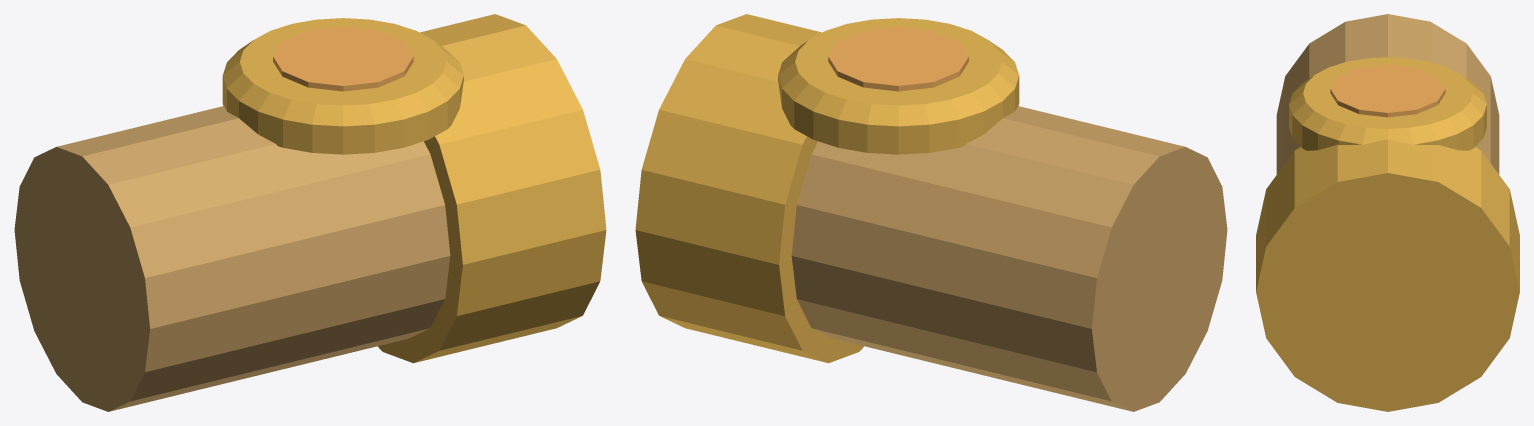
The model's file is SM_Pinball_Guide.fbx.
3 views of the same model, side by side, from view 1: azimuth 30°, elevation 25°; view 2: azimuth 150°, elevation 25°; view 3: azimuth 270°, elevation 25° (orthographic). The views are drawn at different scales.
Parts seen in each view (by area): view 1: SM_Pinball_Guide; view 2: SM_Pinball_Guide; view 3: SM_Pinball_Guide.
Boxes of the visible parts, x1,y1,x2,y2 form: SM_Pinball_Guide: (14,14,606,411); SM_Pinball_Guide: (635,14,1227,411); SM_Pinball_Guide: (1256,14,1519,411).
Bounding box in the file's own units: 51 × 32 × 33.5.
